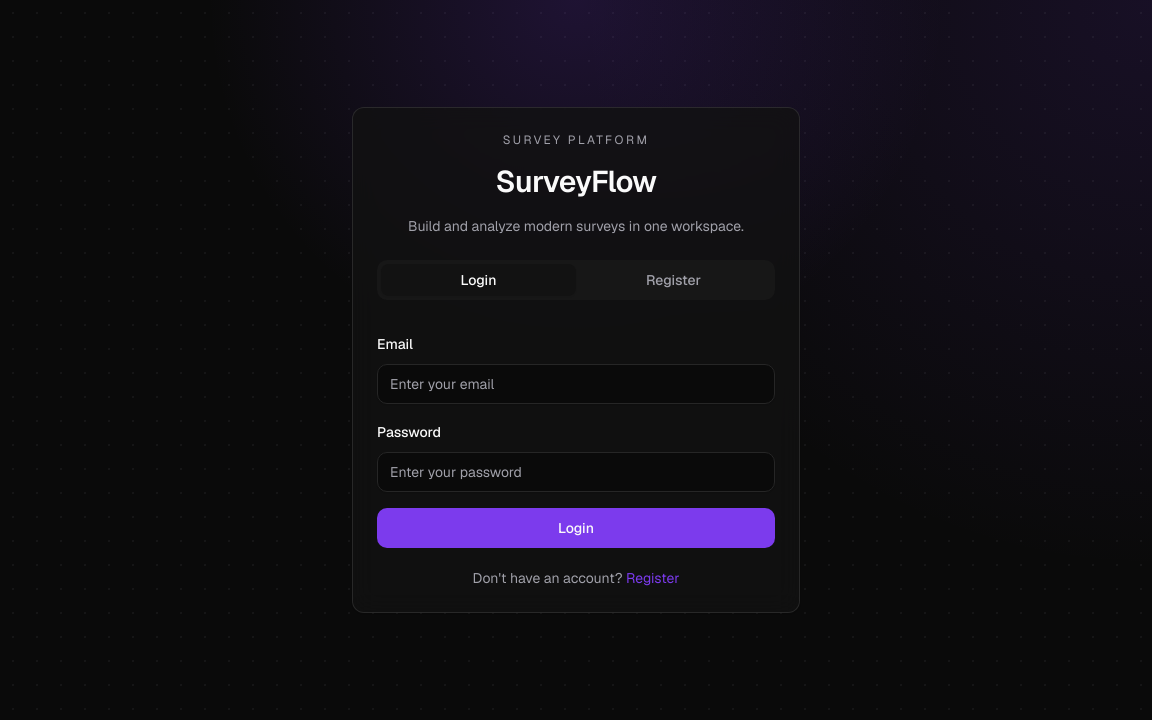
Scenario: AuthPage component › switches to register mode when toggle is clicked
Click the button with test id "toggle-mode" at x=653, y=578, box [626,568,680,588]
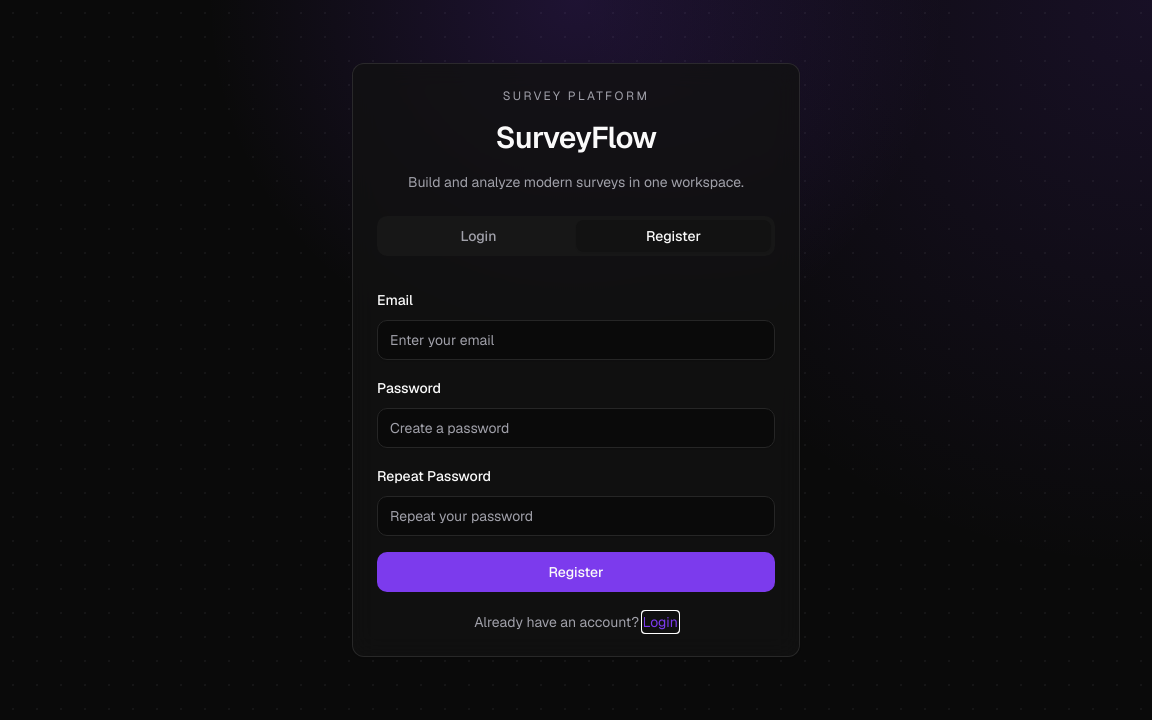
Result: the password field labelled "Repeat Password" is shown at [377,496,775,536]
Result: the button with test id "toggle-mode" reads "Login" at [643,612,678,632]
